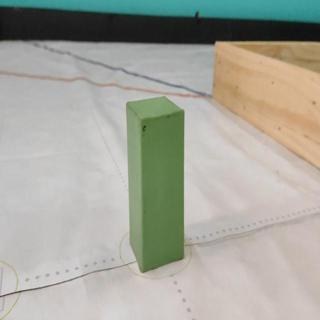greenbox: (124, 95, 185, 273)
